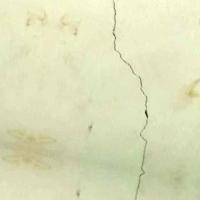crack: (102, 0, 161, 198)
